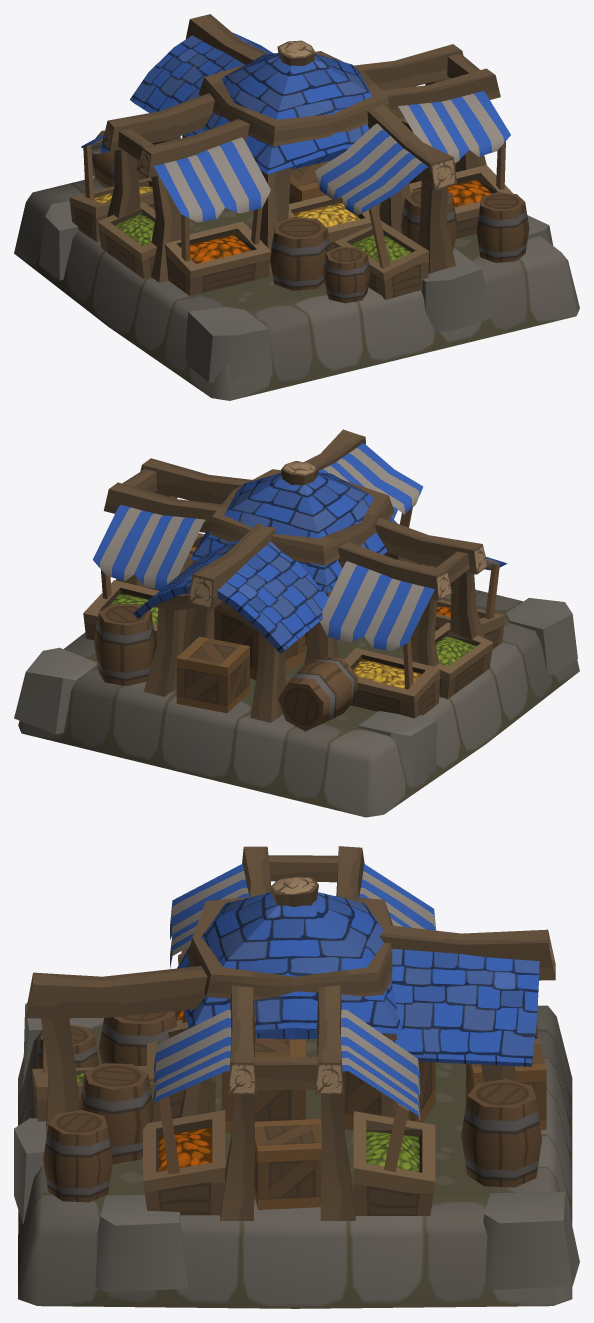
Rendered from рынок.fbx.
3 renders of one model, top to bottom at view 1: azimuth 30°, elevation 25°; view 2: azimuth 150°, elevation 25°; view 3: azimuth 270°, elevation 25°, orthographic. The views are drawn at different scales.
Parts seen in each view (by area): view 1: Market, Market.012, Market.014, Market.013, Market.011, Market.005, Market.002, Market.004, Market.003, Market.010, Market.006; view 2: Market, Market.014, Market.012, Market.011, Market.007, Market.009, Market.013, Market.006, Market.008; view 3: Market, Market.014, Market.011, Market.013, Market.012, Market.009, Market.001, Market.002, Market.003, Market.010, Market.005, Market.008 (+2 smaller).
Boxes of the visible parts, bbox=[...] form: Market: bbox=[14, 177, 579, 400]; Market.012: bbox=[69, 93, 270, 295]; Market.014: bbox=[130, 14, 410, 274]; Market.013: bbox=[288, 104, 457, 299]; Market.011: bbox=[354, 44, 513, 238]; Market.005: bbox=[270, 216, 331, 290]; Market.002: bbox=[476, 192, 529, 262]; Market.004: bbox=[322, 247, 370, 303]; Market.003: bbox=[400, 189, 456, 250]; Market.010: bbox=[289, 160, 330, 203]; Market.006: bbox=[91, 130, 146, 187]; Market: bbox=[14, 589, 579, 817]; Market.014: bbox=[133, 461, 408, 722]; Market.012: bbox=[320, 517, 507, 718]; Market.011: bbox=[83, 458, 251, 654]; Market.007: bbox=[176, 636, 249, 713]; Market.009: bbox=[94, 604, 155, 686]; Market.013: bbox=[304, 429, 423, 527]; Market.006: bbox=[278, 656, 358, 731]; Market.008: bbox=[214, 605, 304, 680]; Market: bbox=[14, 1003, 579, 1308]; Market.014: bbox=[177, 877, 555, 1120]; Market.011: bbox=[143, 985, 435, 1220]; Market.013: bbox=[26, 966, 215, 1137]; Market.012: bbox=[170, 846, 436, 1024]; Market.009: bbox=[461, 1079, 541, 1187]; Market.001: bbox=[254, 1119, 321, 1209]; Market.002: bbox=[43, 1110, 112, 1202]; Market.003: bbox=[79, 1063, 153, 1164]; Market.010: bbox=[221, 1038, 305, 1133]; Market.005: bbox=[99, 1011, 176, 1065]; Market.008: bbox=[343, 1061, 435, 1129].
Bounding box in the file's own units: 676 × 404 × 672.
Materials: 1 (1 with a texture image).
